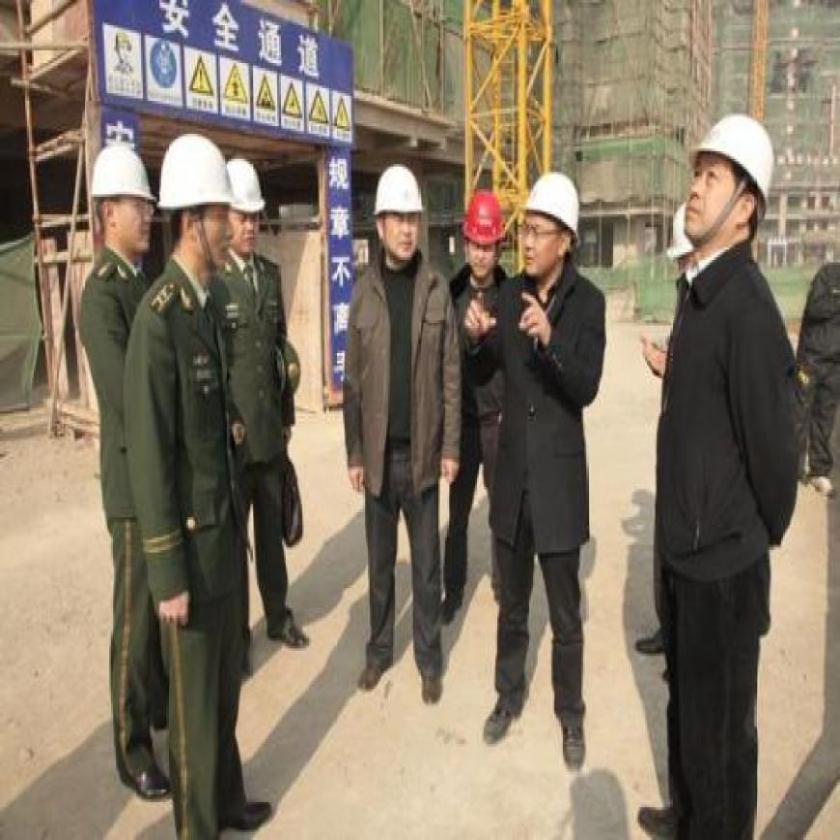Con_casco: (653, 94, 761, 268), (69, 124, 158, 265), (152, 122, 233, 274), (369, 143, 434, 270), (458, 165, 510, 303), (520, 165, 572, 289)
